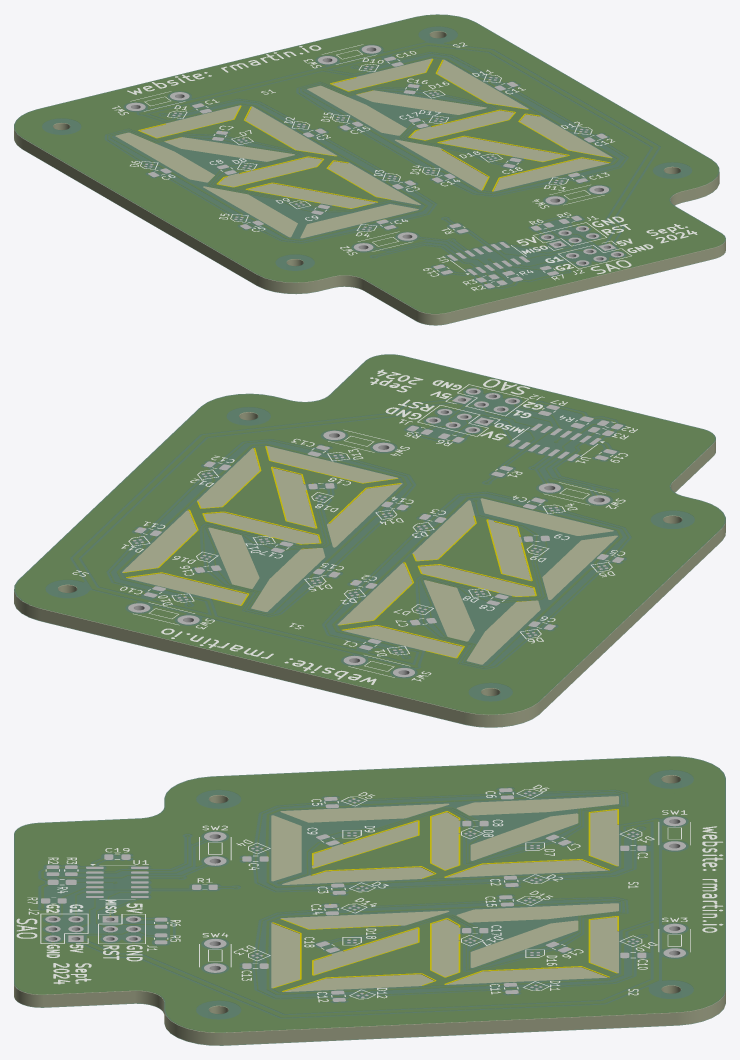
Rendered from 9-segment-counter-sao.glb.
3 views of the same model, one above another, from view 1: azimuth 30°, elevation 25°; view 2: azimuth 150°, elevation 25°; view 3: azimuth 270°, elevation 25° (orthographic). The views are drawn at different scales.
Parts seen in each view (by area): view 1: =>[0:1:1:7], =>[0:1:1:2], =>[0:1:1:9], =>[0:1:1:5]; view 2: =>[0:1:1:7], =>[0:1:1:2], =>[0:1:1:9], =>[0:1:1:5]; view 3: =>[0:1:1:7], =>[0:1:1:2], =>[0:1:1:9], =>[0:1:1:5].
Boxes of the visible parts, x1=… form: =>[0:1:1:7]: x1=14, y1=14, x2=725, y2=325; =>[0:1:1:2]: x1=15, y1=15, x2=724, y2=313; =>[0:1:1:9]: x1=14, y1=27, x2=725, y2=325; =>[0:1:1:5]: x1=112, y1=42, x2=697, y2=290; =>[0:1:1:7]: x1=14, y1=354, x2=725, y2=727; =>[0:1:1:2]: x1=16, y1=355, x2=723, y2=713; =>[0:1:1:9]: x1=14, y1=388, x2=725, y2=727; =>[0:1:1:5]: x1=72, y1=369, x2=637, y2=684; =>[0:1:1:7]: x1=14, y1=756, x2=725, y2=1045; =>[0:1:1:2]: x1=15, y1=757, x2=724, y2=1032; =>[0:1:1:9]: x1=14, y1=770, x2=725, y2=1045; =>[0:1:1:5]: x1=16, y1=784, x2=723, y2=1002.
Size of the model in its own units: 0.0722 by 0.00166 by 0.0785.
4 materials, 4 textured.
